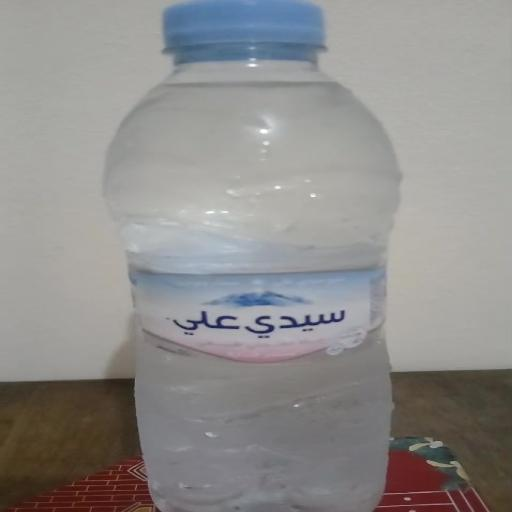bouteille conformite: (104, 0, 430, 512)
